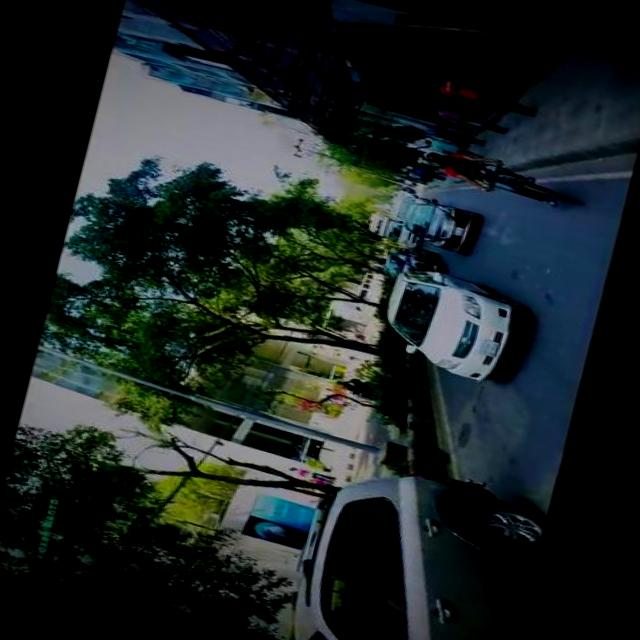car: (278, 446, 543, 640), (372, 262, 518, 386), (393, 194, 470, 252), (376, 241, 440, 289)
motorcycle: (343, 376, 373, 401)
truck: (372, 215, 418, 249)
